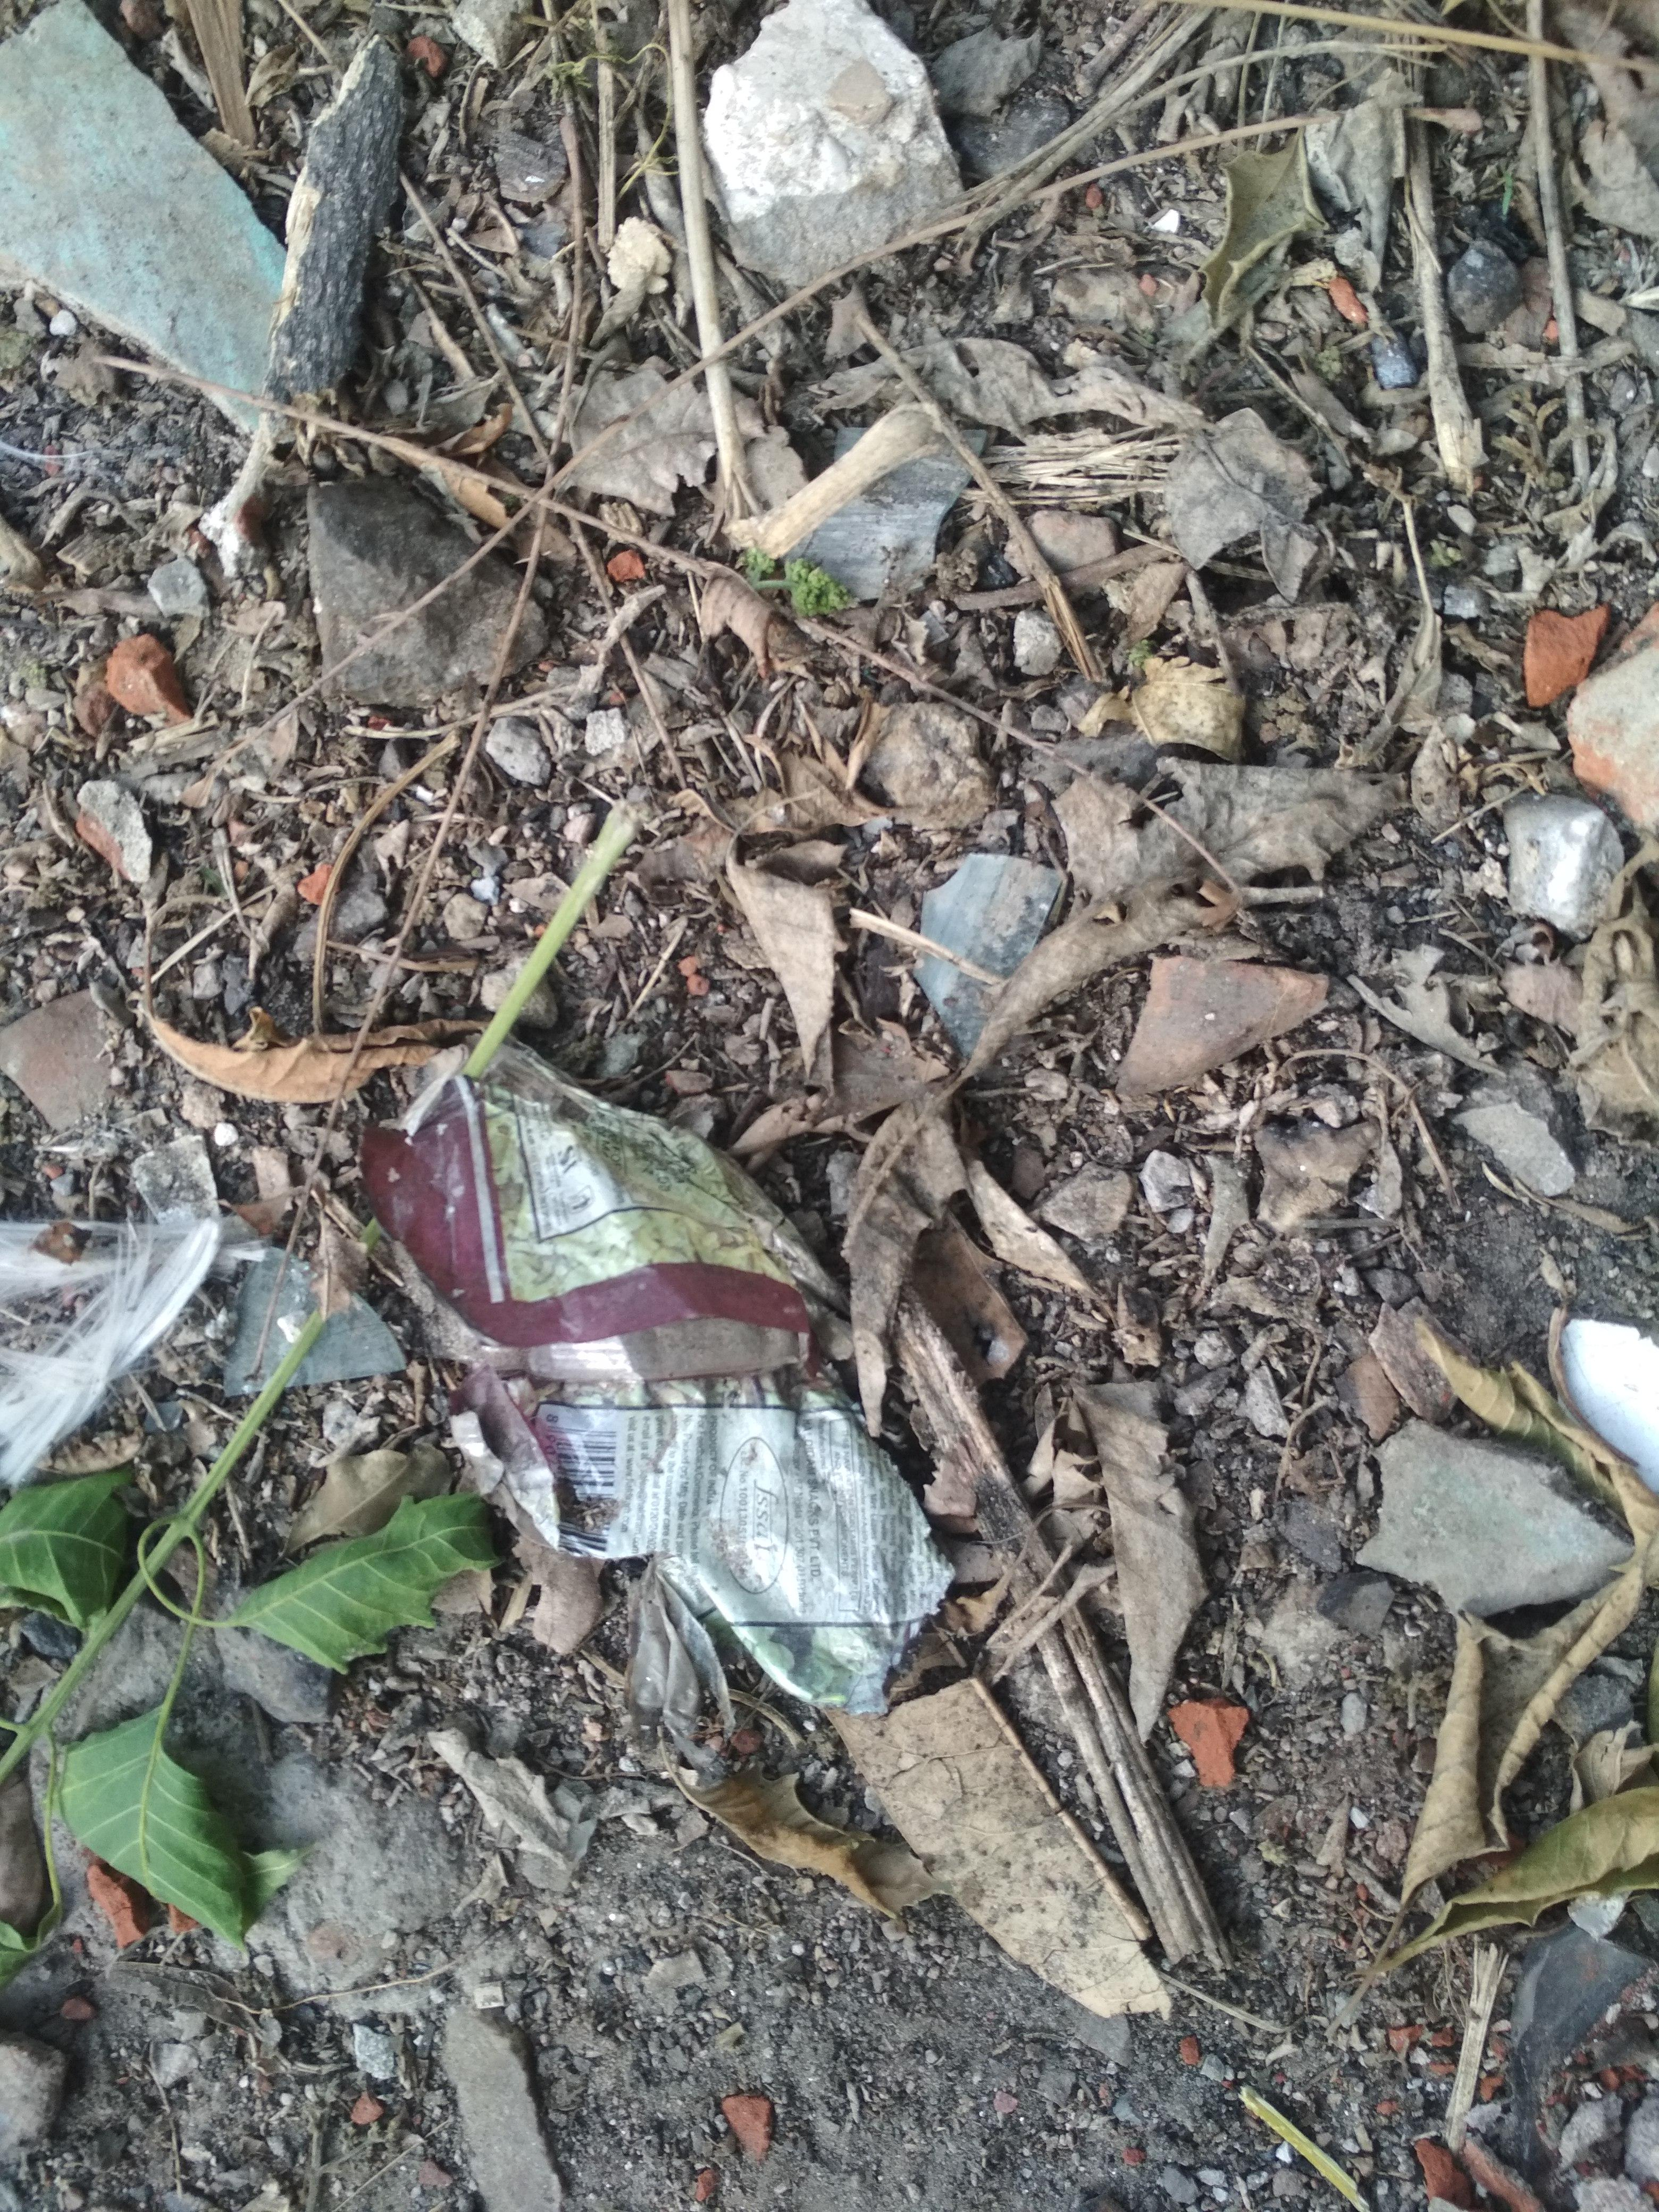trash: (0, 1005, 948, 1777)
